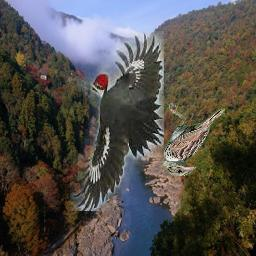Sparrow: (161, 104, 225, 177)
Woodpecker: (70, 31, 164, 211)
